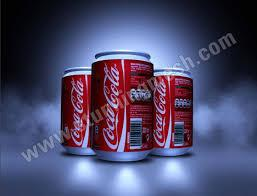Aluminum can: (88, 42, 154, 171), (52, 59, 97, 152), (150, 68, 196, 157)
